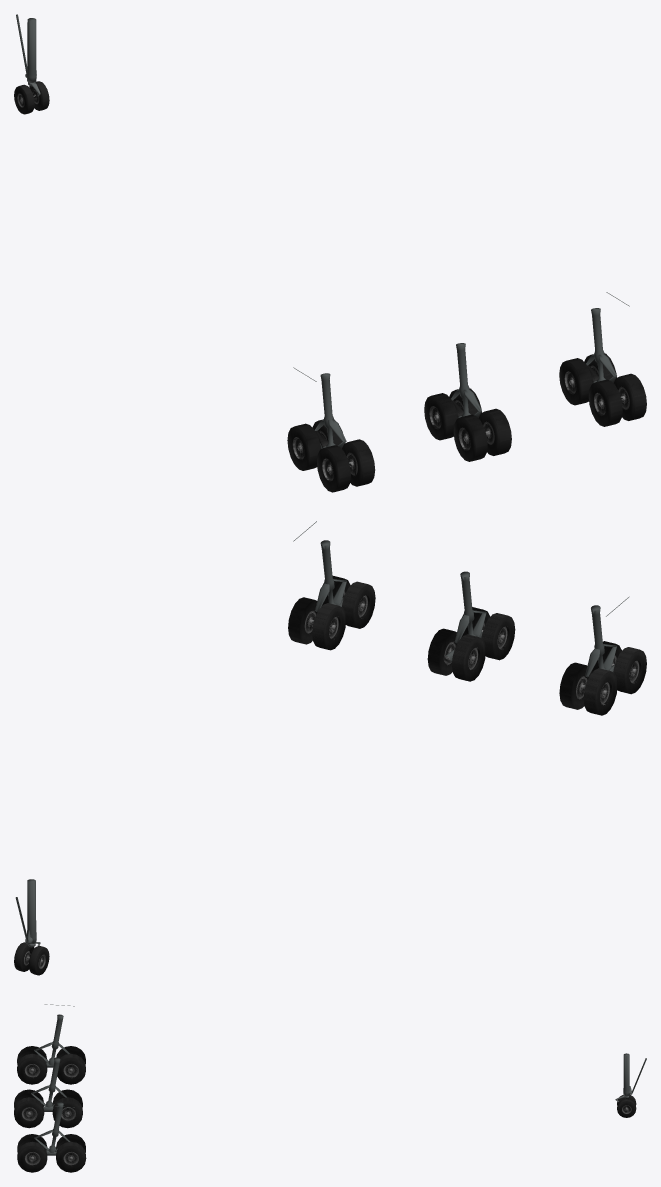
The picture shows the model from 3 angles, top to bottom: view 1: azimuth 30°, elevation 25°; view 2: azimuth 150°, elevation 25°; view 3: azimuth 270°, elevation 25°; orthographic projection. The views are drawn at different scales.
Parts seen in each view (by area): view 1: _Black_.012, _Black_.004, _Black_.008, _Black_.005, _Black_.003, _Black_.011, left_gear, _Black_.009, _Black_.001, _Black_.007, right_gear, mid_gear (+2 smaller); view 2: _Black_.005, _Black_.011, _Black_.003, _Black_.008, _Black_.012, _Black_.004, mid_gear, left_gear, right_gear, _Black_.010, _Black_.006, _Black_.002 (+2 smaller); view 3: _Black_.009, _Black_.007, _Black_.001, _Black_.010, _Black_.006, _Black_.002, mid_gear, right_gear, left_gear, nose_gear, _Black_.
Boxes of the visible parts, x1,y1,x2,y2 form: _Black_.012: [588, 379, 622, 426]; _Black_.004: [453, 414, 487, 461]; _Black_.008: [317, 445, 350, 492]; _Black_.005: [287, 423, 320, 470]; _Black_.003: [424, 393, 457, 440]; _Black_.011: [559, 358, 592, 405]; left_gear: [315, 373, 352, 469]; _Black_.009: [613, 373, 646, 420]; _Black_.001: [478, 408, 511, 455]; _Black_.007: [342, 439, 375, 486]; right_gear: [586, 308, 623, 403]; mid_gear: [451, 343, 485, 431]; _Black_.005: [583, 668, 617, 715]; _Black_.011: [312, 603, 346, 650]; _Black_.003: [452, 634, 485, 681]; _Black_.008: [613, 647, 646, 694]; _Black_.012: [342, 581, 375, 628]; _Black_.004: [481, 613, 515, 660]; mid_gear: [443, 571, 486, 663]; left_gear: [582, 605, 616, 692]; right_gear: [311, 540, 346, 626]; _Black_.010: [288, 597, 317, 644]; _Black_.006: [559, 662, 592, 709]; _Black_.002: [427, 628, 456, 675]; _Black_.009: [17, 1141, 47, 1172]; _Black_.007: [17, 1053, 47, 1084]; _Black_.001: [14, 1097, 44, 1128]; _Black_.010: [56, 1141, 86, 1172]; _Black_.006: [57, 1053, 85, 1084]; _Black_.002: [52, 1097, 82, 1128]; mid_gear: [31, 1057, 66, 1111]; right_gear: [34, 1102, 70, 1155]; left_gear: [34, 1014, 69, 1067]; nose_gear: [615, 1053, 646, 1102]; _Black_: [617, 1094, 636, 1117].
Bounding box in the file's own units: 12.72 × 4.04 × 33.71.
Materials: 1 (1 with a texture image).
